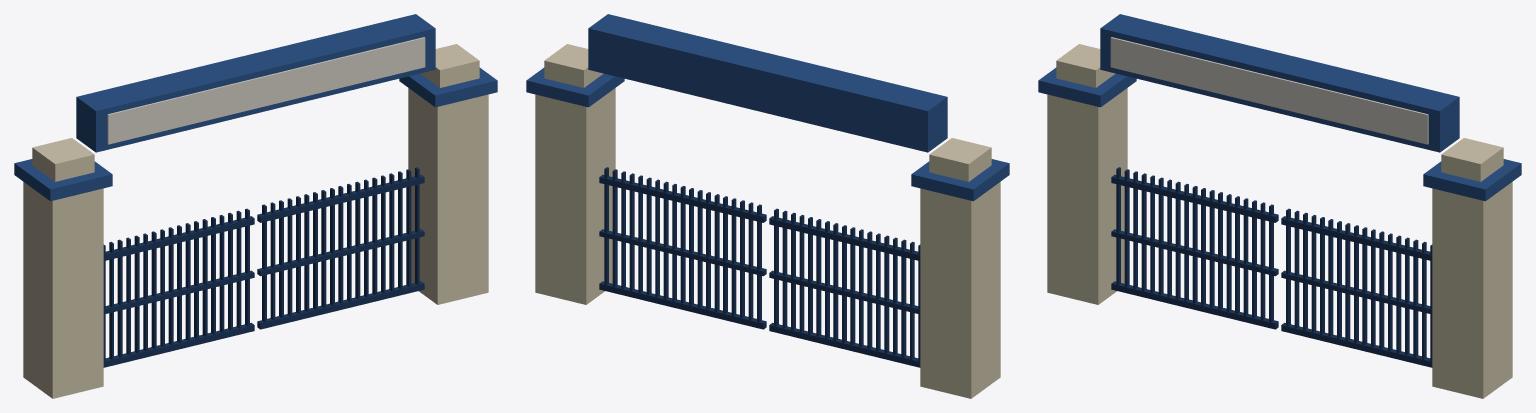
Rendered from ns_schoolgate.glb.
3 renders of one model, left to right at view 1: azimuth 30°, elevation 25°; view 2: azimuth 150°, elevation 25°; view 3: azimuth 330°, elevation 25°, orthographic.
Parts seen in each view (by area): view 1: ns_schoolgate; view 2: ns_schoolgate; view 3: ns_schoolgate.
Boxes of the visible parts, bbox=[...] form: ns_schoolgate: bbox=[14, 14, 497, 398]; ns_schoolgate: bbox=[526, 14, 1009, 398]; ns_schoolgate: bbox=[1038, 14, 1521, 398].
Size of the model in its own units: 7.9 by 4.6 by 1.1.
